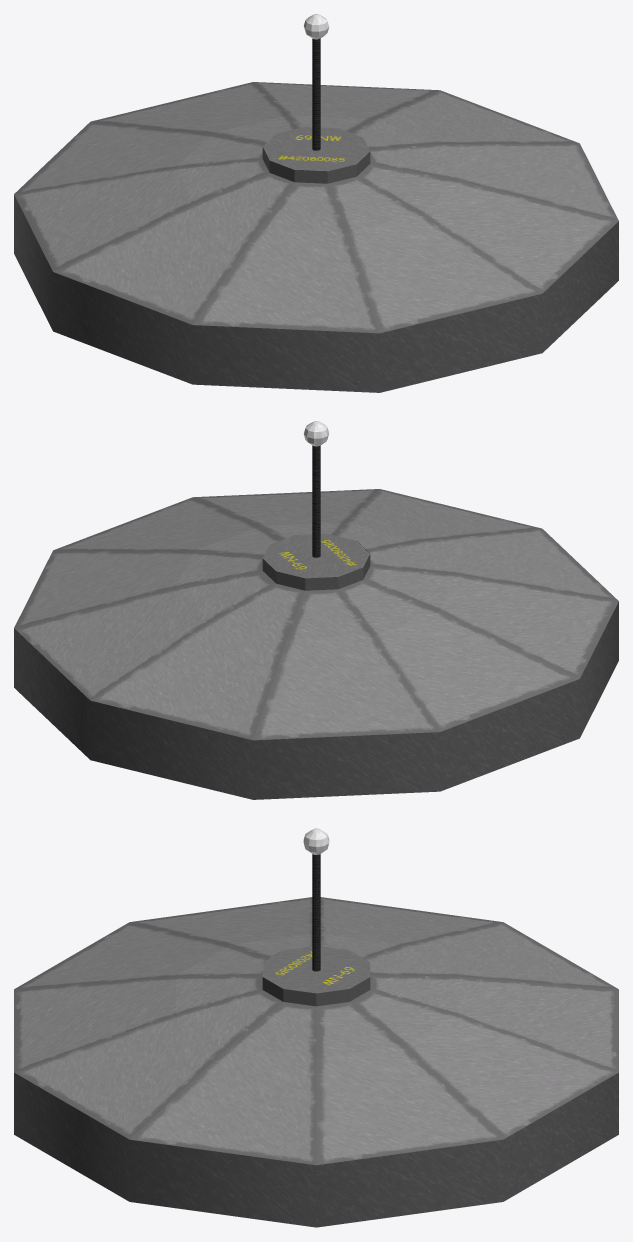
File: Mine Projectile.fbx
The picture shows the model from 3 angles, top to bottom: view 1: azimuth 30°, elevation 25°; view 2: azimuth 150°, elevation 25°; view 3: azimuth 270°, elevation 25°; orthographic projection. The views are drawn at different scales.
Parts seen in each view (by area): view 1: mine; view 2: mine; view 3: mine.
Part boxes in pixels (bbox=[...]): mine: bbox=[14, 14, 618, 392]; mine: bbox=[14, 421, 618, 799]; mine: bbox=[14, 828, 618, 1227].
Bounding box in the file's own units: 1.02 × 0.4649 × 0.9663.
1 material, 1 textured.
